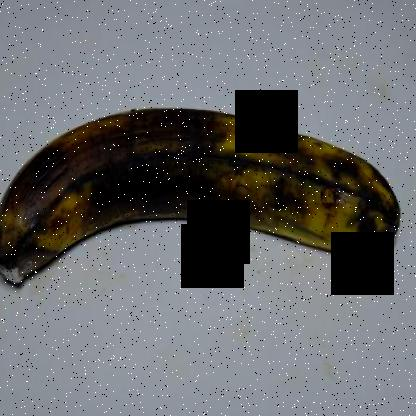overripe: (1, 80, 414, 304)
